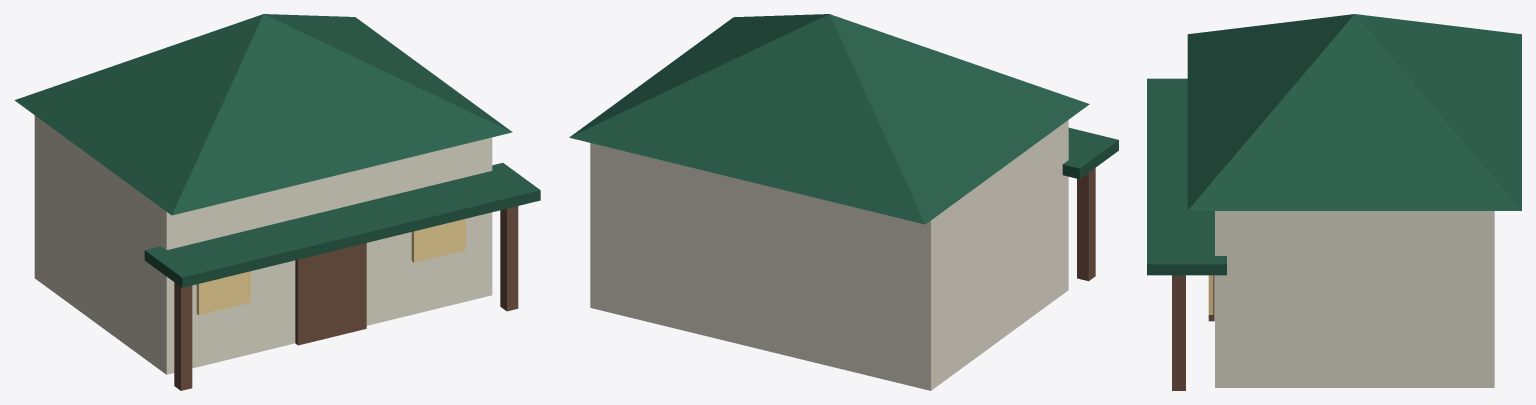
The model's file is postoffice.glb.
3 renders of one model, left to right at view 1: azimuth 30°, elevation 25°; view 2: azimuth 150°, elevation 25°; view 3: azimuth 270°, elevation 25°, orthographic. The views are drawn at different scales.
Parts seen in each view (by area): view 1: PostofficeMesh; view 2: PostofficeMesh; view 3: PostofficeMesh.
Boxes of the visible parts, bbox=[...] form: PostofficeMesh: bbox=[14, 14, 540, 390]; PostofficeMesh: bbox=[569, 14, 1118, 390]; PostofficeMesh: bbox=[1147, 14, 1521, 390].
Bounding box in the file's own units: 11 × 8 × 9.39.
Materials: 1 (1 with a texture image).
